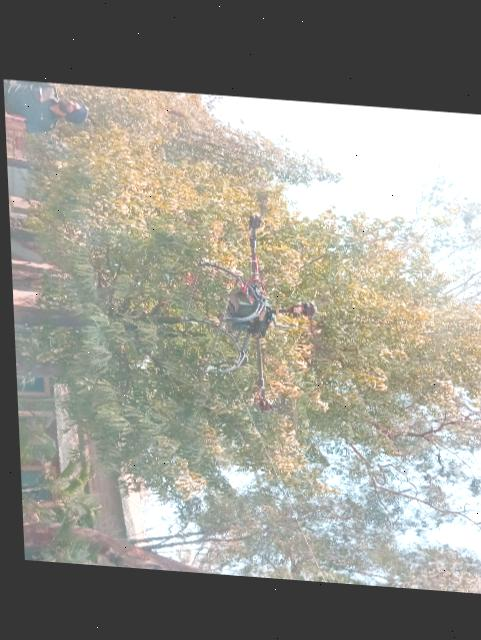drone: (160, 163, 327, 445)
